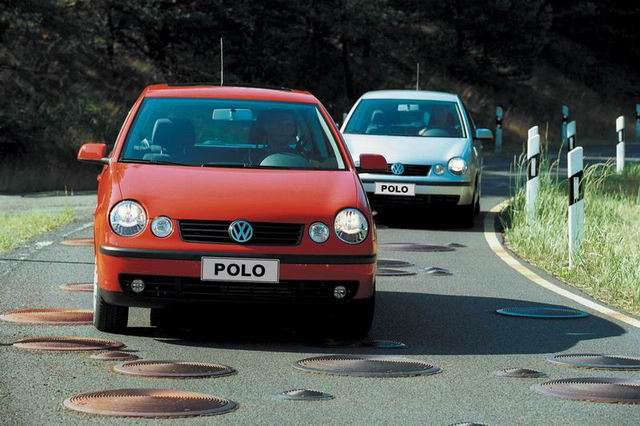car: (75, 62, 406, 368)
